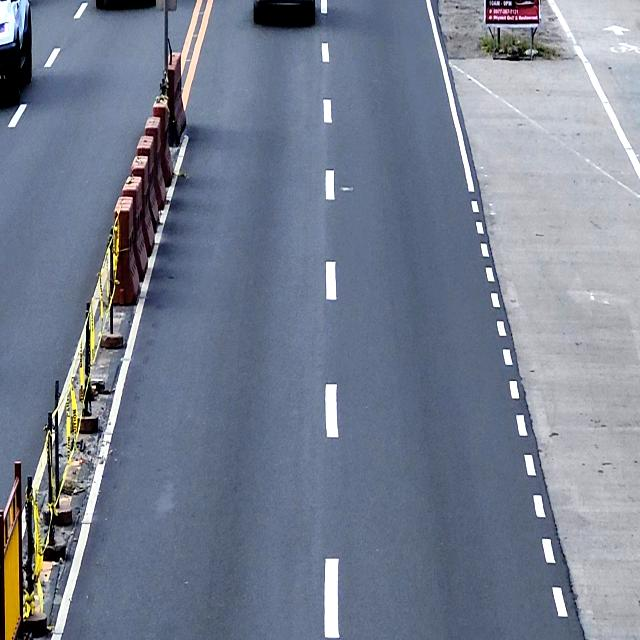Car: (0, 0, 33, 104)
